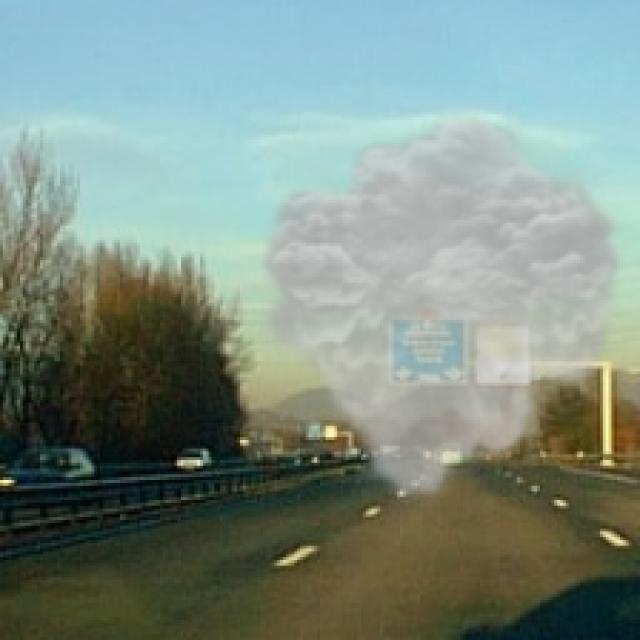Smoke: (252, 111, 632, 506)
